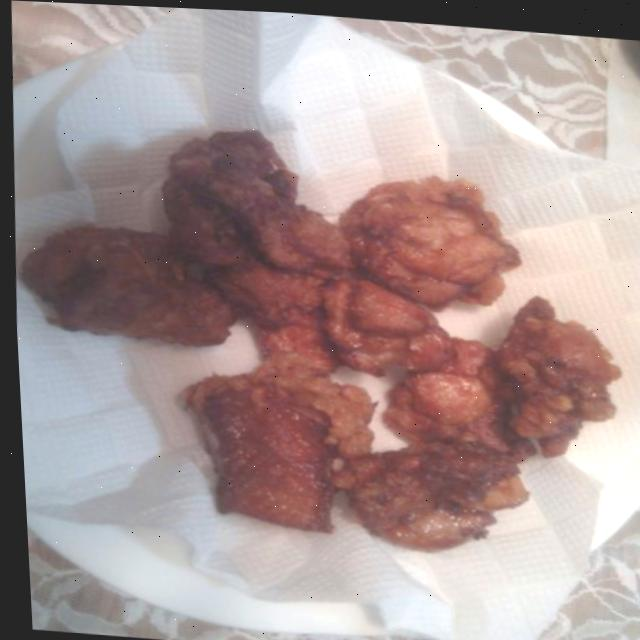鸡肉料理 含炸鸡: (0, 11, 640, 640)
